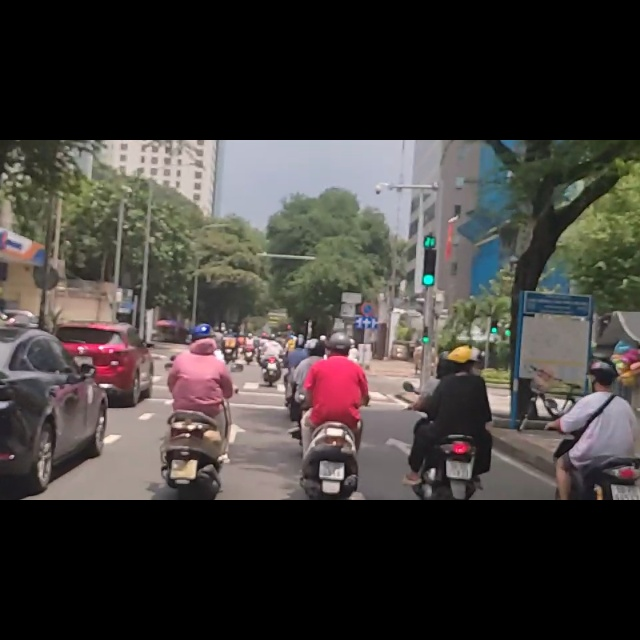bien_chi_dan: (359, 289, 376, 316)
